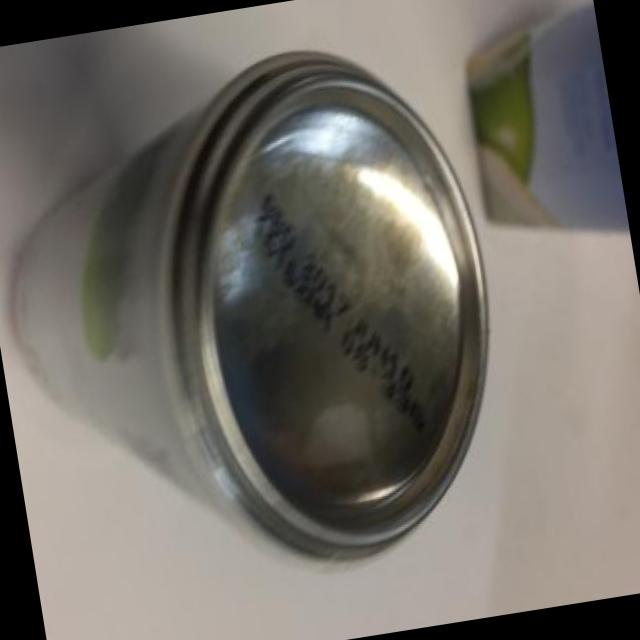kim_loai: (7, 46, 490, 570)
